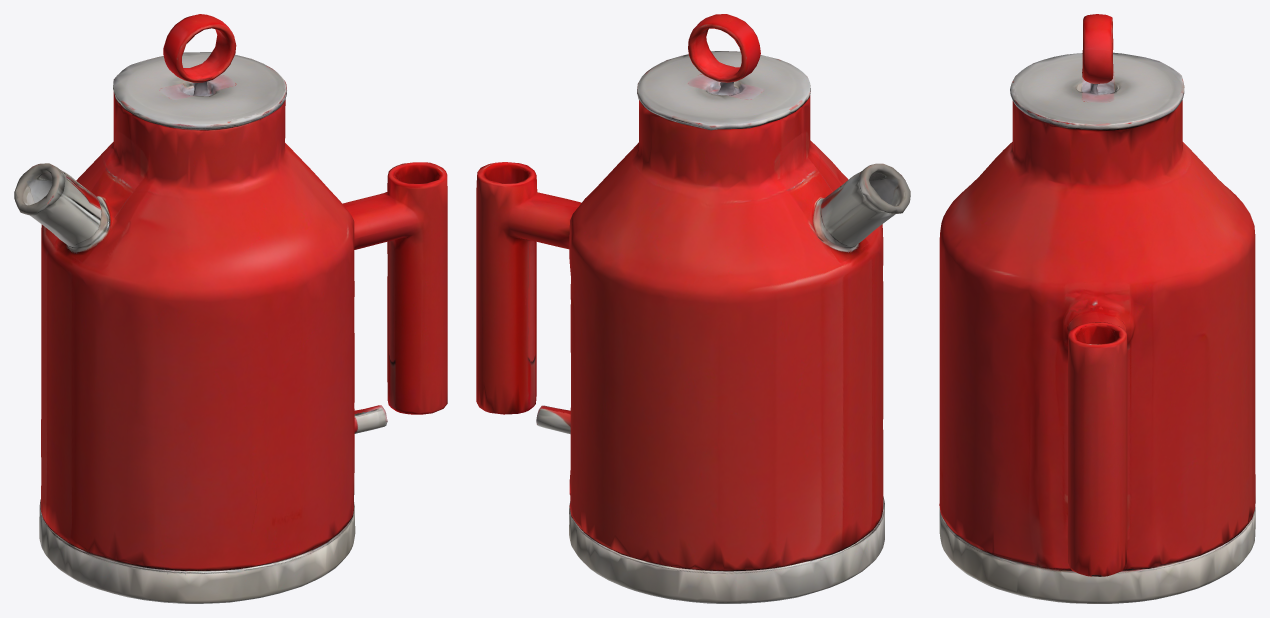
File: Red_Elegance.glb
The picture shows the model from 3 angles, left to right: view 1: azimuth 30°, elevation 25°; view 2: azimuth 150°, elevation 25°; view 3: azimuth 270°, elevation 25°; orthographic projection.
Bounding box in the file's own units: 1.7 × 2 × 1.09.
1 material, 1 textured.
